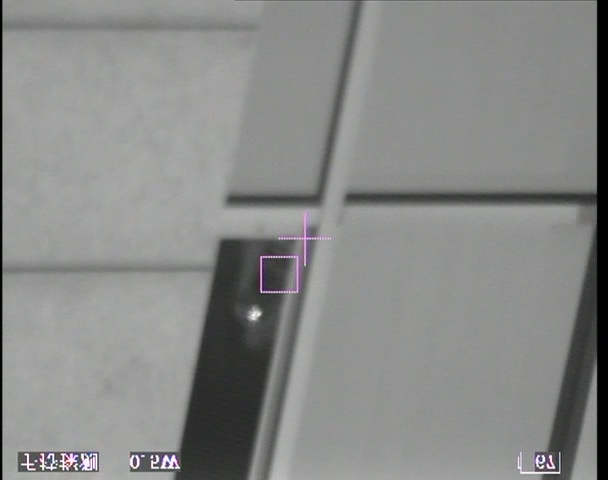my: (245, 304, 264, 321)
